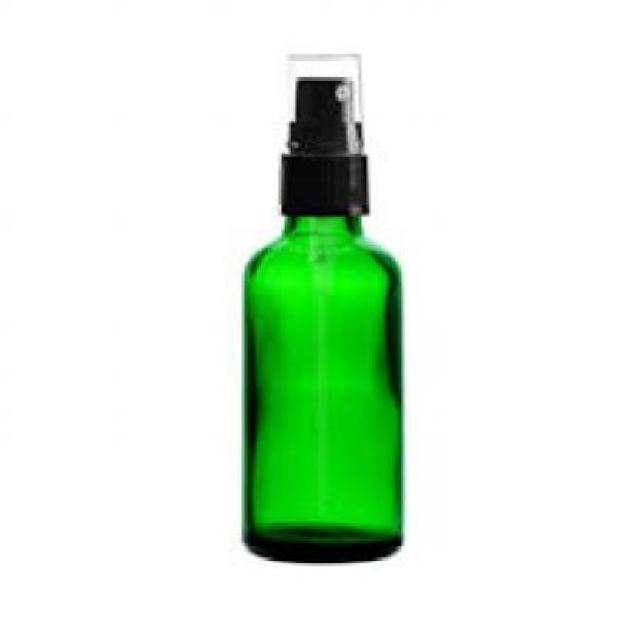kaca: (244, 211, 398, 563)
